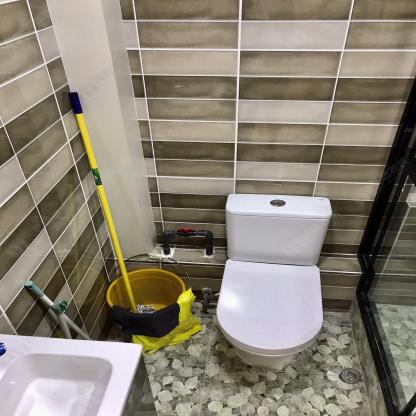Toilet: (214, 192, 333, 368)
Toilet Sink: (0, 333, 143, 416)
